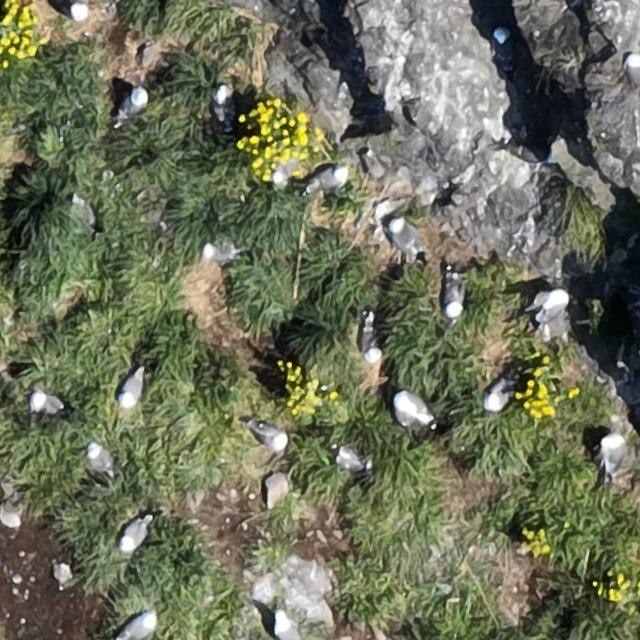umineko: (359, 314, 385, 368), (490, 31, 531, 61), (396, 394, 430, 425), (389, 222, 420, 254), (120, 516, 148, 550), (306, 165, 345, 189), (212, 84, 236, 122), (117, 88, 147, 118), (119, 614, 153, 638), (256, 426, 288, 451), (120, 370, 142, 406), (443, 280, 462, 320), (486, 385, 512, 413), (87, 443, 112, 472), (604, 438, 624, 473), (336, 448, 367, 470), (204, 242, 237, 262), (535, 290, 565, 312), (32, 393, 62, 414), (276, 617, 302, 640), (0, 504, 20, 530), (627, 55, 640, 88)
